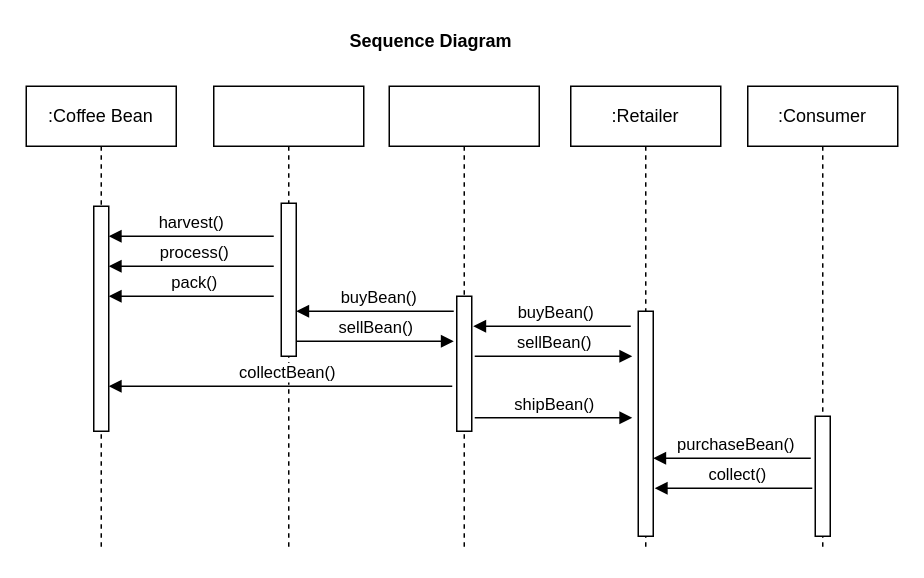
This 924x578 diagram has some shape labels left out. The shapes that lost their labels are listed below. From the top down, each one's centre as x and y in pixels, then its label:
(x=288, y=318): :Farmer
(x=463, y=318): :Distributor
